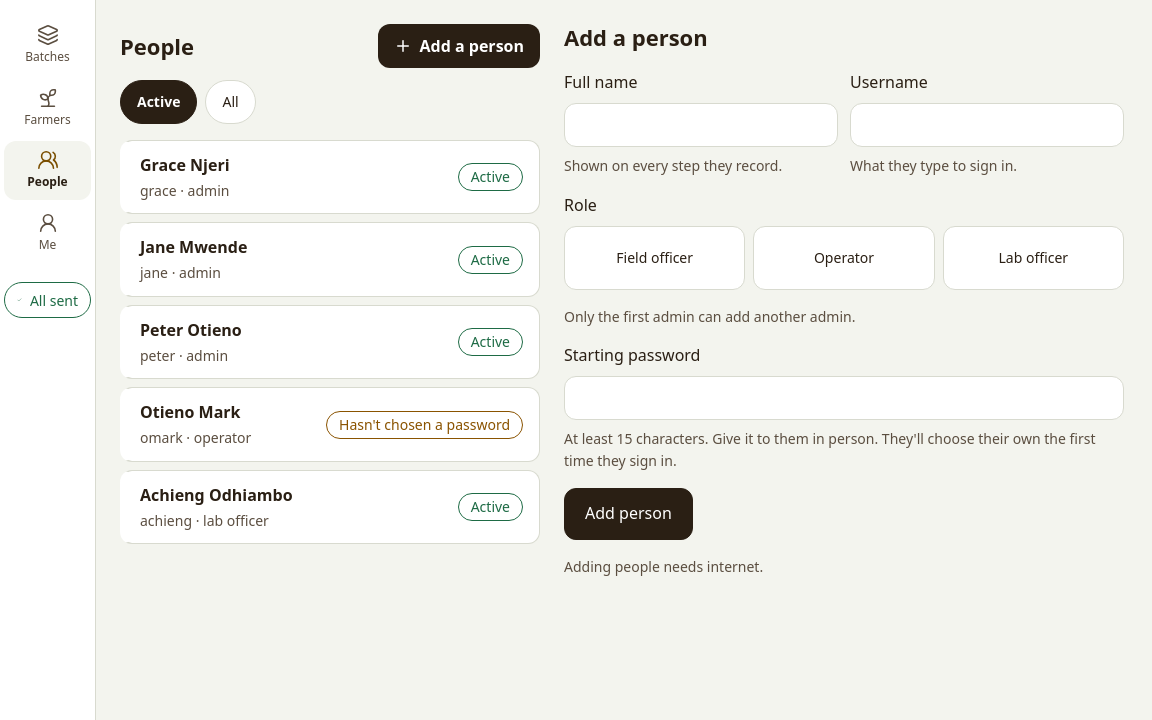
Test: Adding a person › says adding people needs internet when offline
Expected: the radio button labelled "Operator" is shown, [753,226,935,290]
In the field labelled "Full name": (701, 125) [564,103,838,147], type "Mark Kamau"
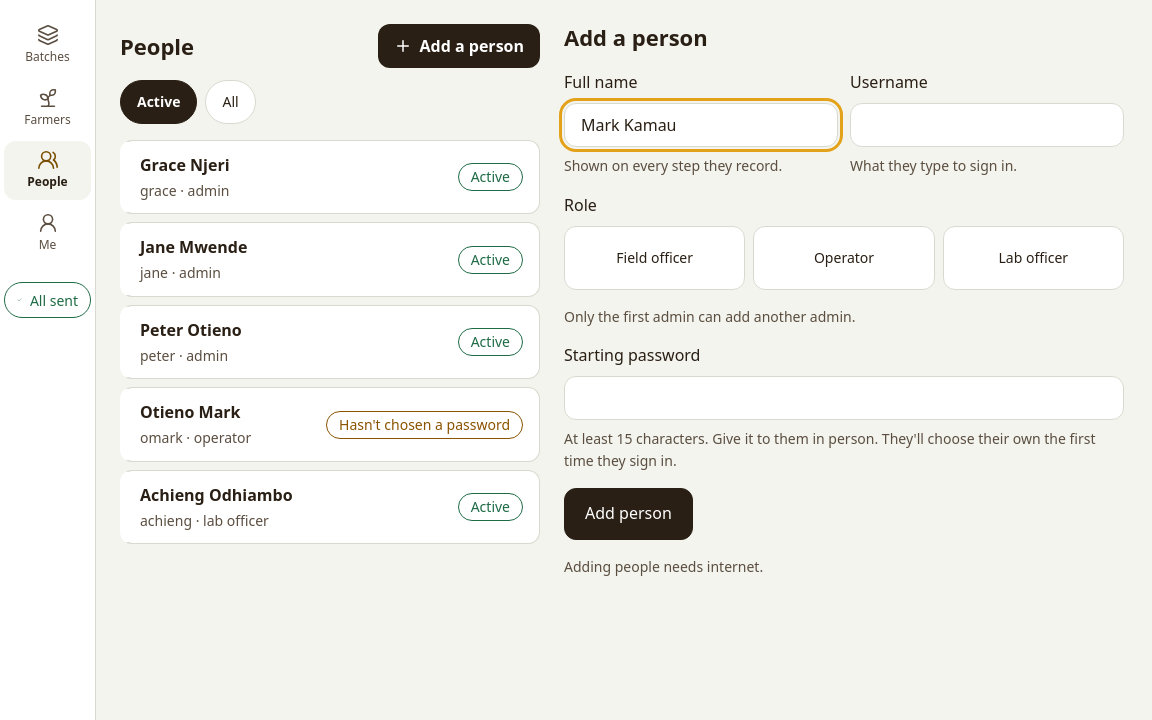
In the field labelled "Username": (987, 125) [850,103,1124,147], type "mkamau"
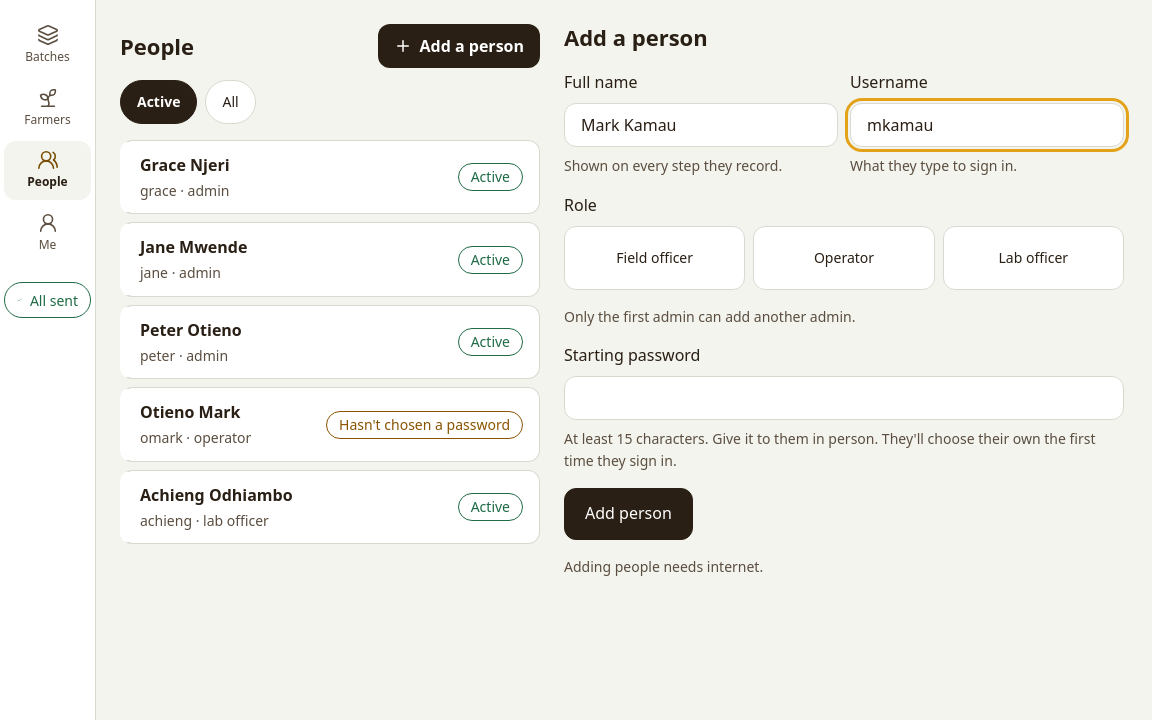
Click the radio button labelled "Operator": (844, 258) [753,226,935,290]
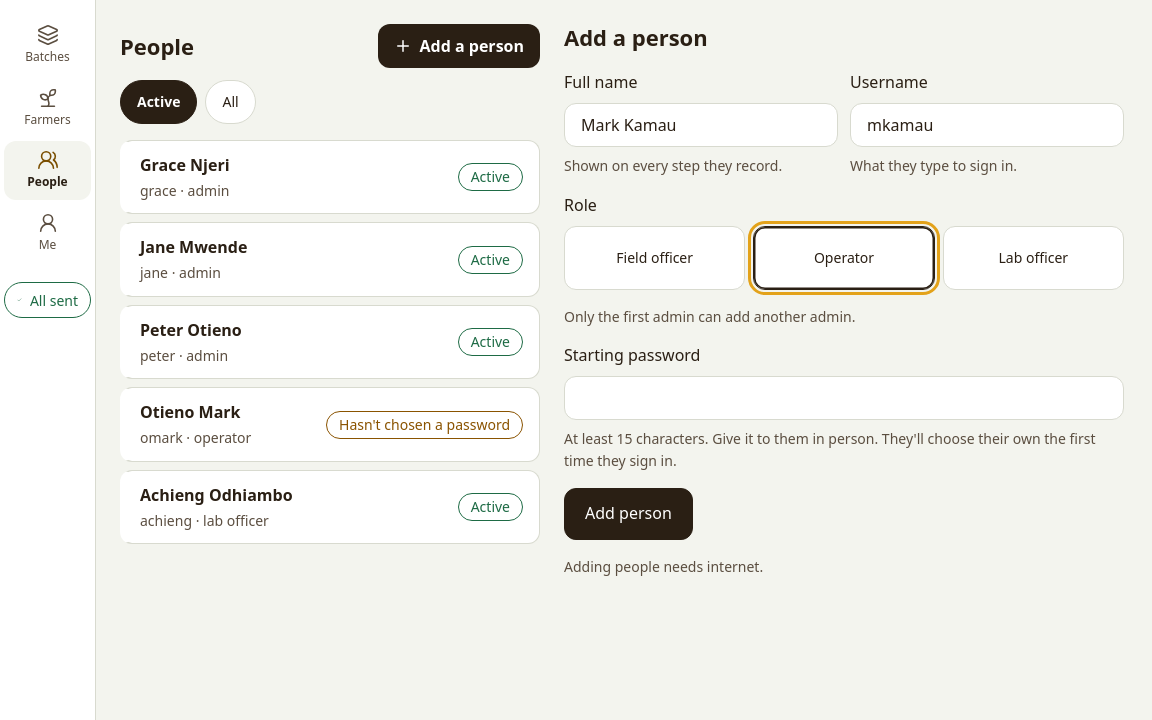
In the password field labelled "Starting password": (844, 398) [564,376,1124,420], type "a starting sentence for otieno"
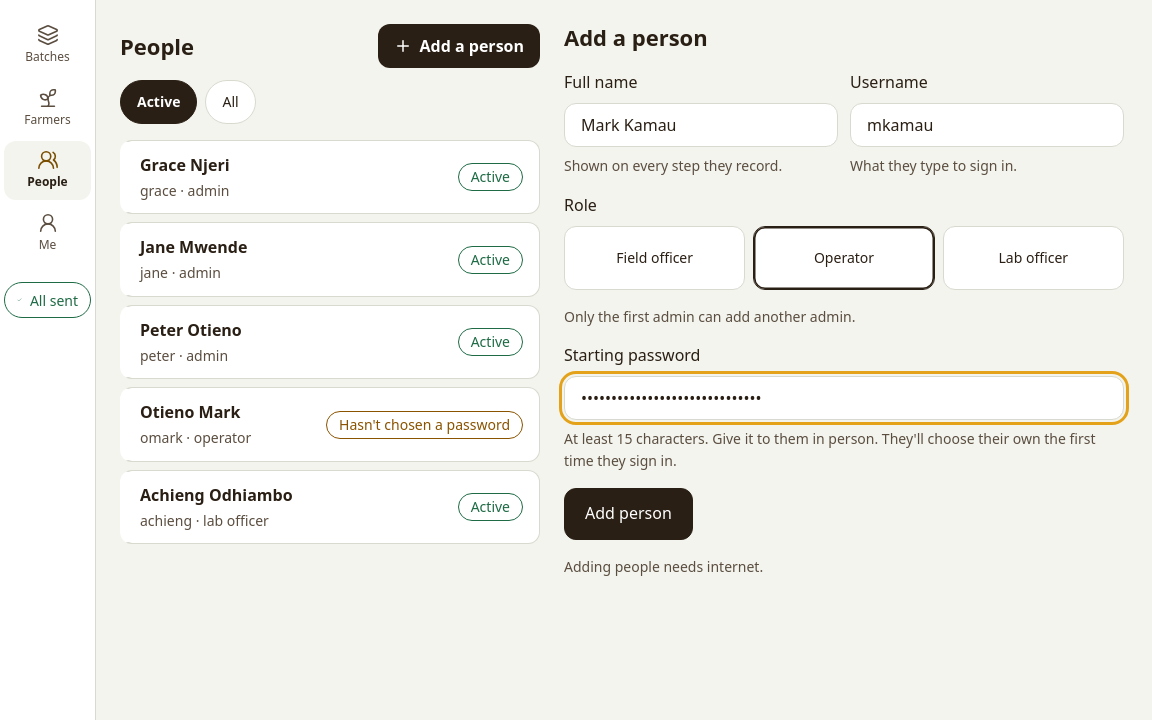
Click the button "Add person": (628, 514) [564,488,693,540]
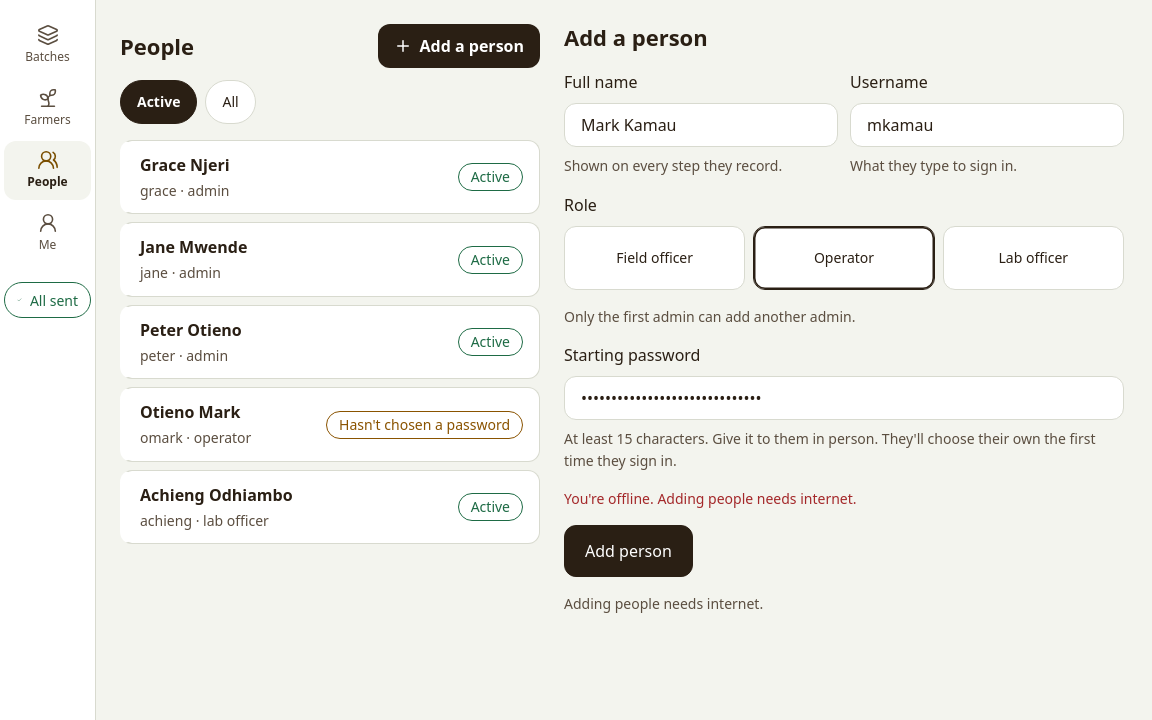
Result: the text "You're offline. Adding people needs internet." is shown at [564,488,856,508]
